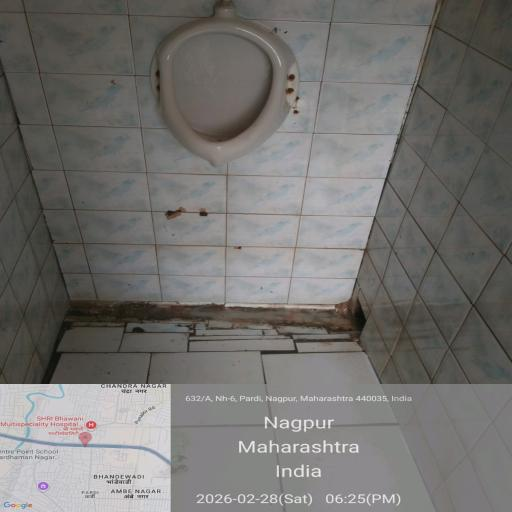clean_urinal: (128, 11, 317, 174)
partial_dirty_floor: (80, 271, 440, 477), (18, 56, 442, 227)
